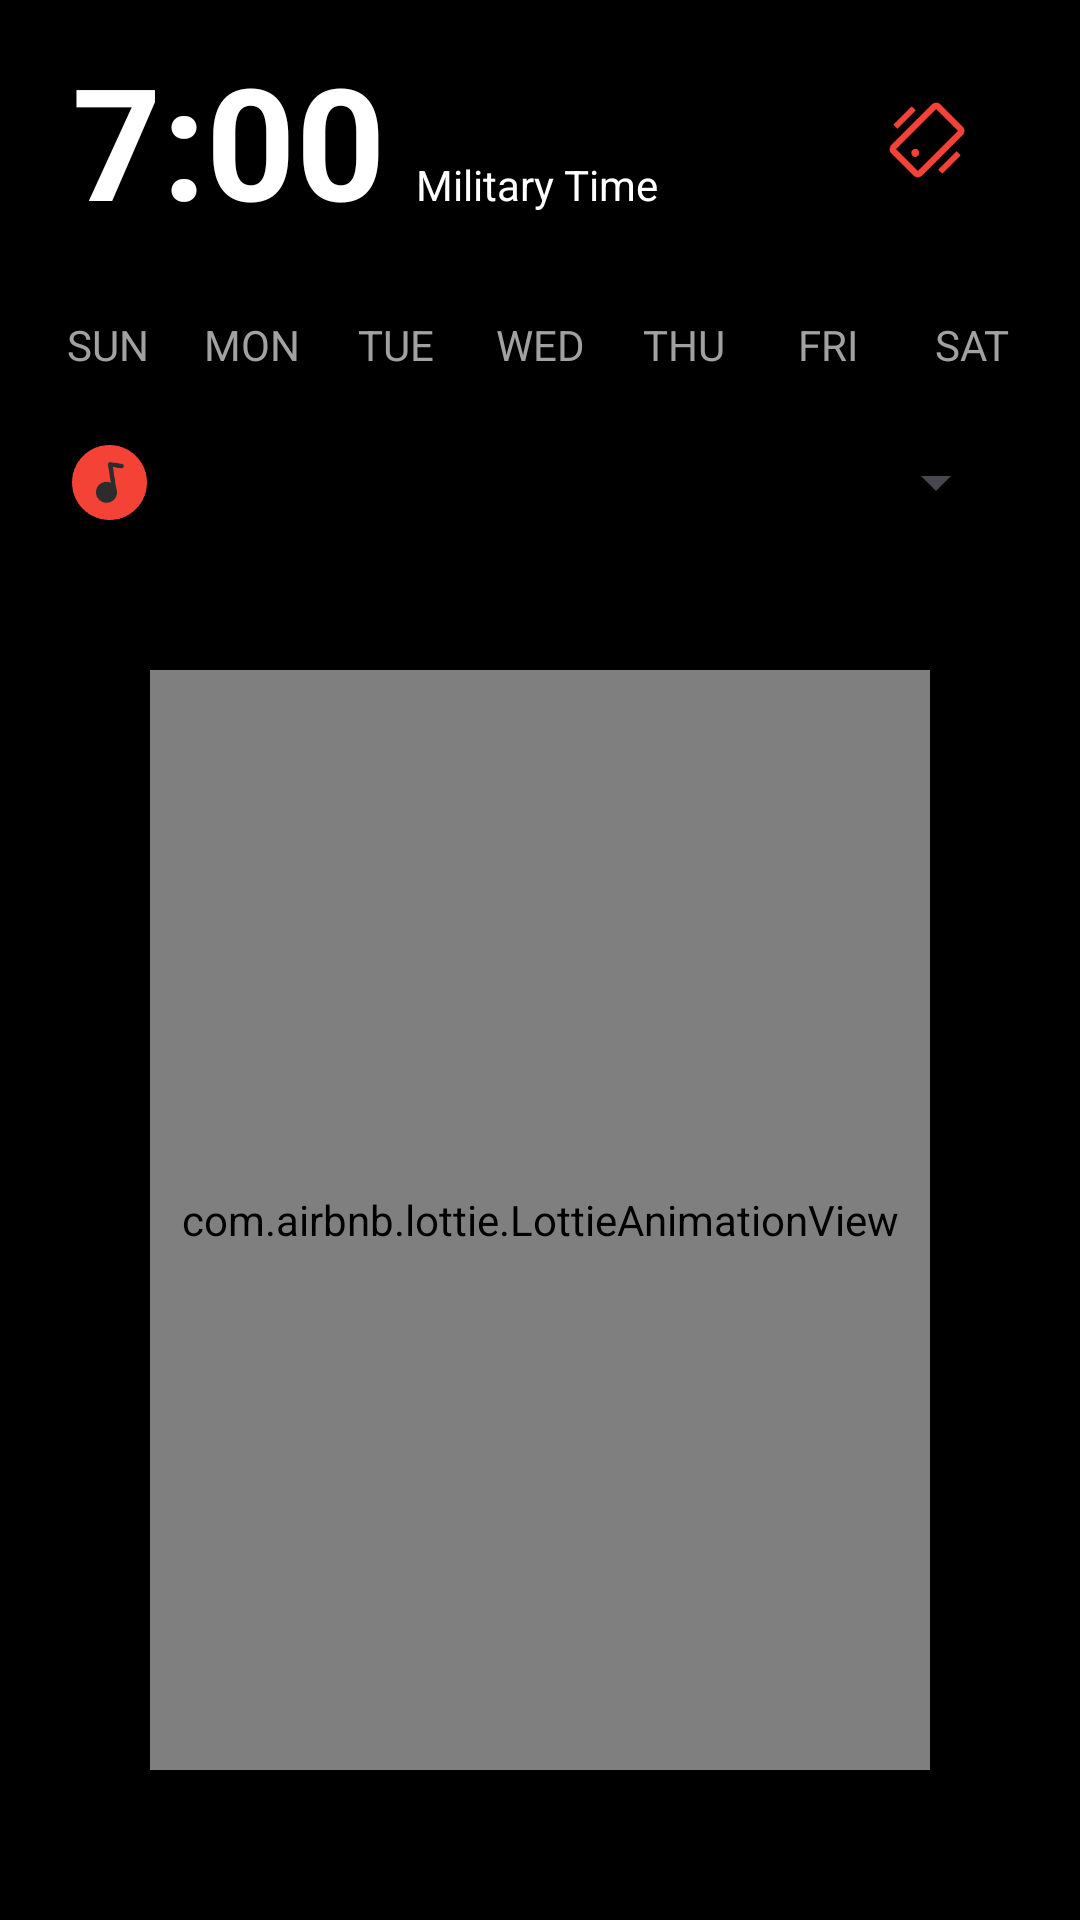

Where icons sit on this 1080px×1920px app screen, as (x1, y1, x2, y2):
music: (72, 445, 147, 520)
shock: (889, 102, 965, 178)
